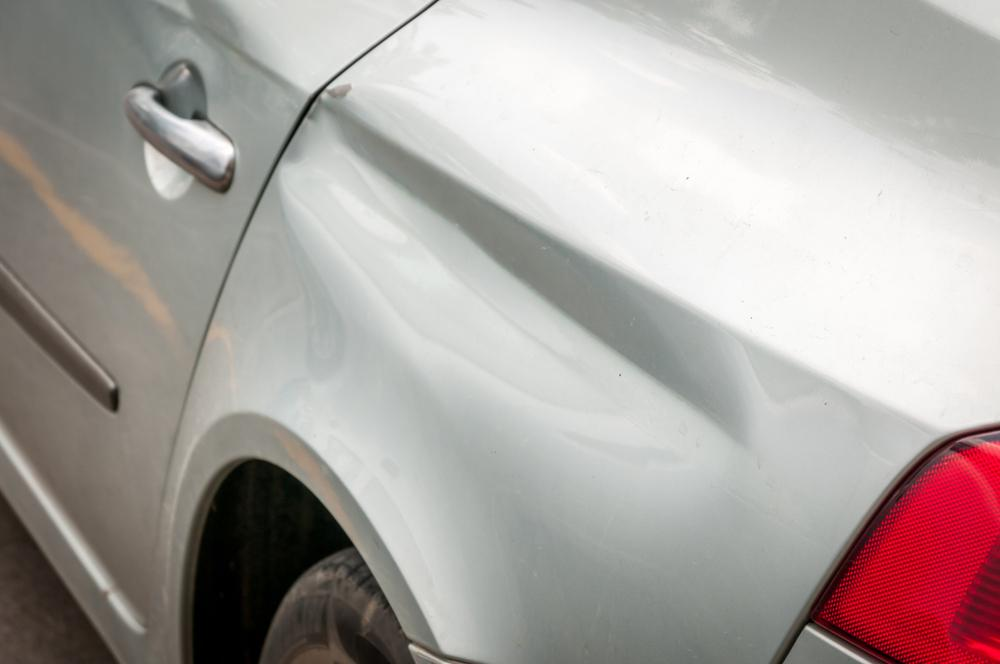dent: (278, 88, 735, 450)
